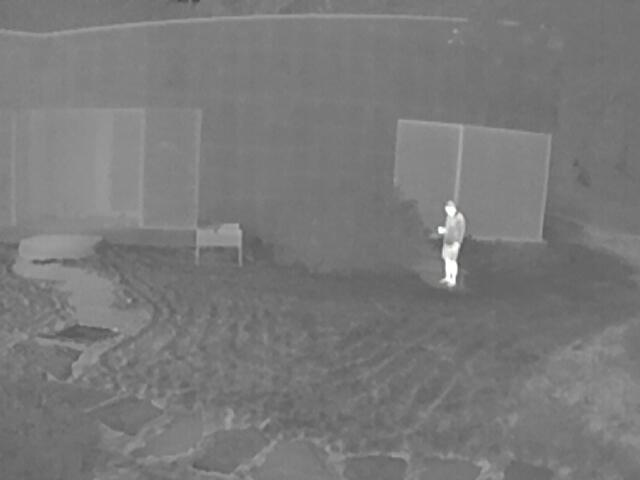person: (439, 201, 465, 287)
